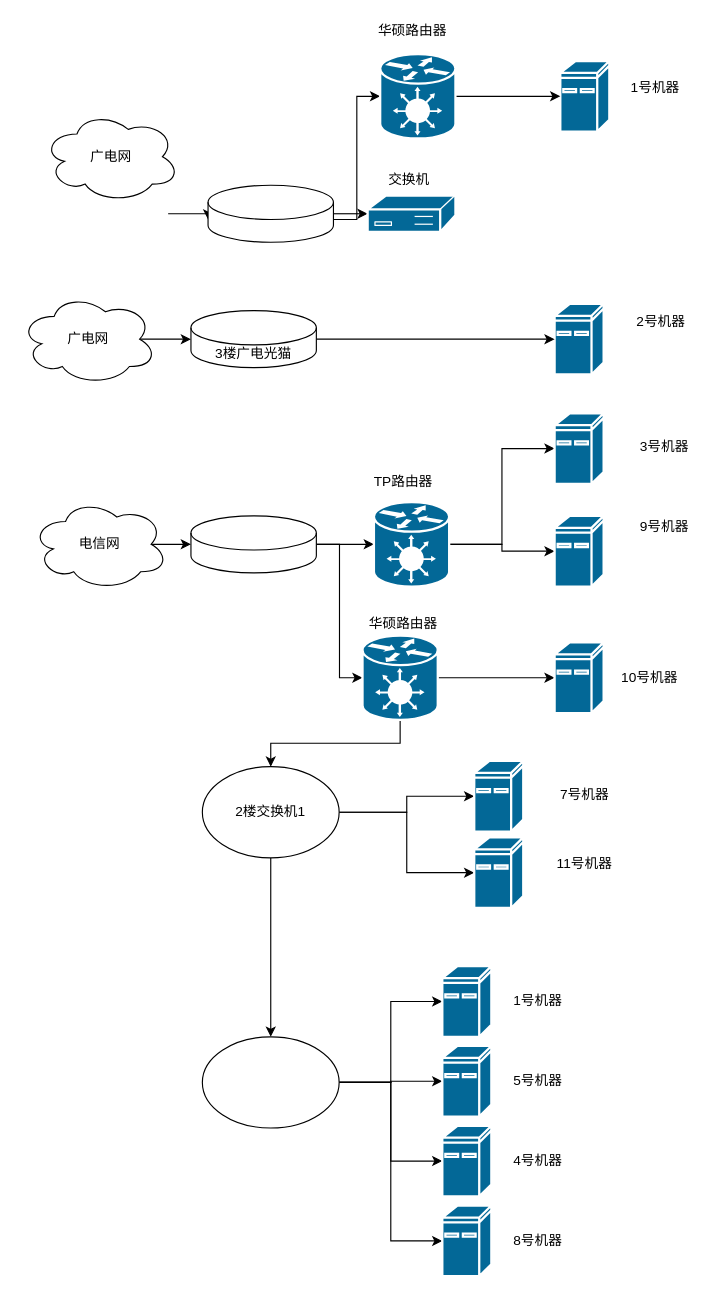
Image size: 724x1296. Some labels were removed from this diagram. The centre of each missing label's shape, as x and y in pixels:
2楼交换机2: the point at 270,1082
3楼电信光猫: the point at 253,544
光猫: the point at 270,213
